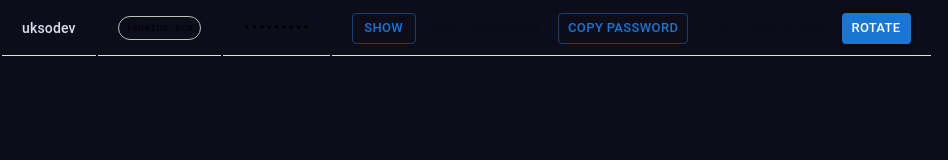
Test case: CredRow › reveals password on Show click
The width and height of the screenshot is (948, 160).
What coordinates should you click on to do the following:
click the button "Show"
I would click on:
 (384, 28)
Its box is [352,13,416,44].
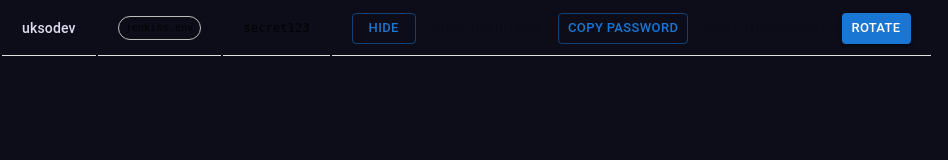
expect the button "Hide" is shown: met, box [352,13,416,44]
